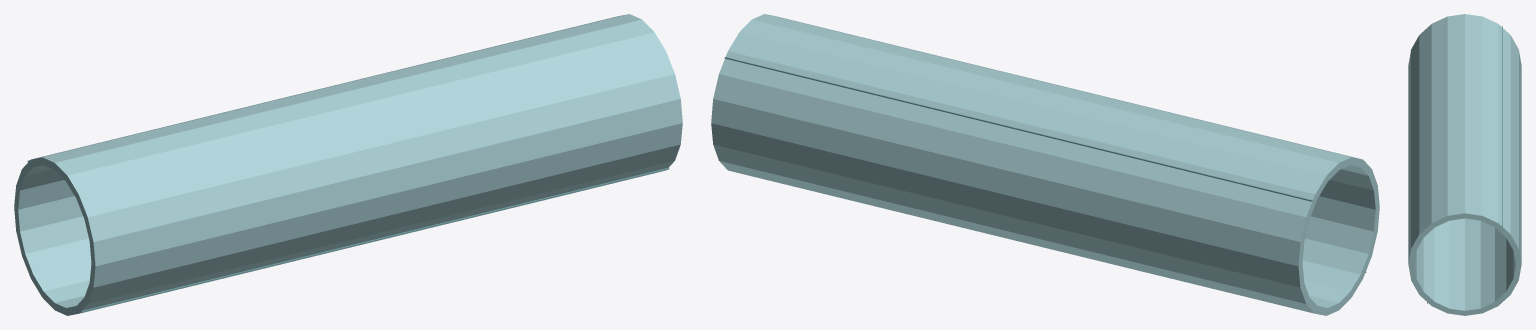
The model's file is PipeSection.glb.
The picture shows the model from 3 angles, left to right: view 1: azimuth 30°, elevation 25°; view 2: azimuth 150°, elevation 25°; view 3: azimuth 270°, elevation 25°; orthographic projection. The views are drawn at different scales.
Visible parts, largest first — view 1: PipeSection; view 2: PipeSection; view 3: PipeSection.
Boxes of the visible parts, left/top/right/bottom form: PipeSection: left=14, top=14, right=682, bottom=315; PipeSection: left=711, top=14, right=1379, bottom=315; PipeSection: left=1408, top=14, right=1521, bottom=315.
Bounding box in the file's own units: 1 × 0.24 × 0.24.
